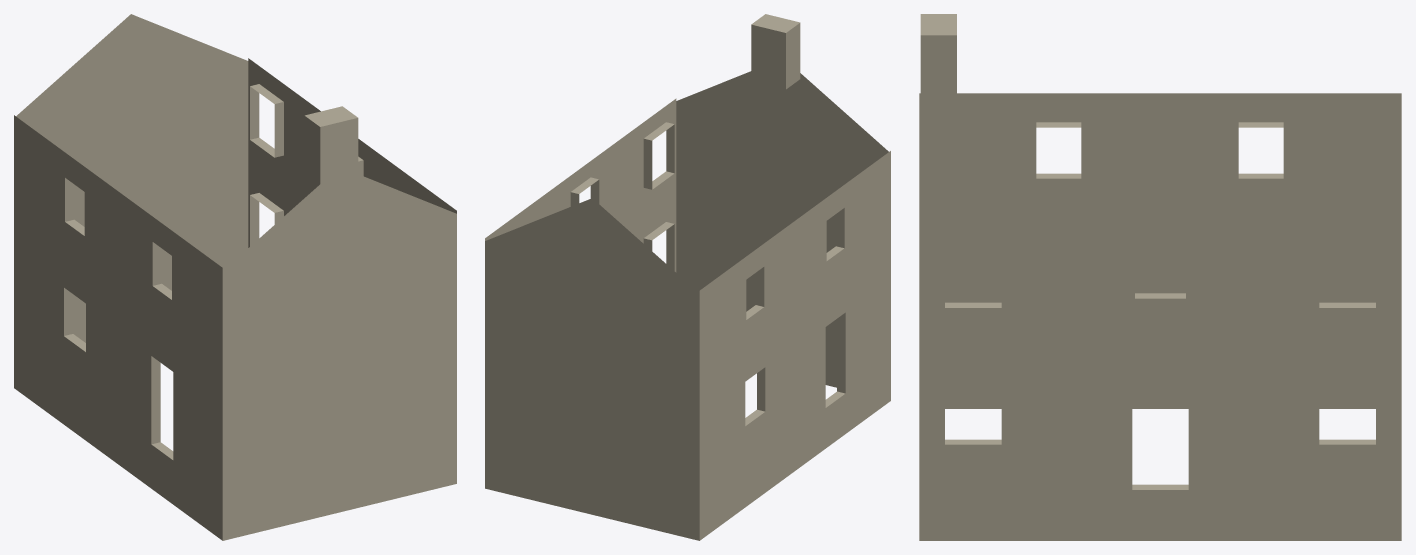
File: SM_Bld_033_Render.glb
3 renders of one model, left to right at view 1: azimuth 30°, elevation 25°; view 2: azimuth 150°, elevation 25°; view 3: azimuth 270°, elevation 25°, orthographic. The views are drawn at different scales.
Visible parts, largest first — view 1: SM_Bld_033_Render; view 2: SM_Bld_033_Render; view 3: SM_Bld_033_Render.
Part boxes in pixels (<box>): SM_Bld_033_Render: <box>14,14,456,540</box>; SM_Bld_033_Render: <box>485,14,890,540</box>; SM_Bld_033_Render: <box>919,14,1401,540</box>.
Size of the model in its own units: 5.54 by 8.8 by 8.55.
